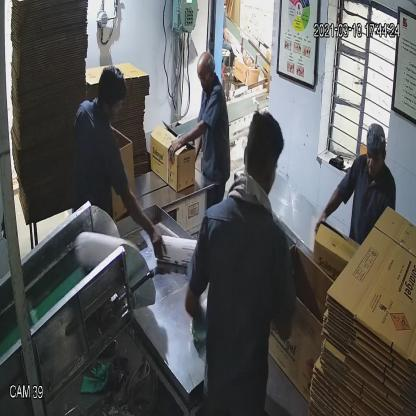no_glove: (112, 176, 169, 268), (165, 123, 214, 163), (313, 174, 343, 230)
